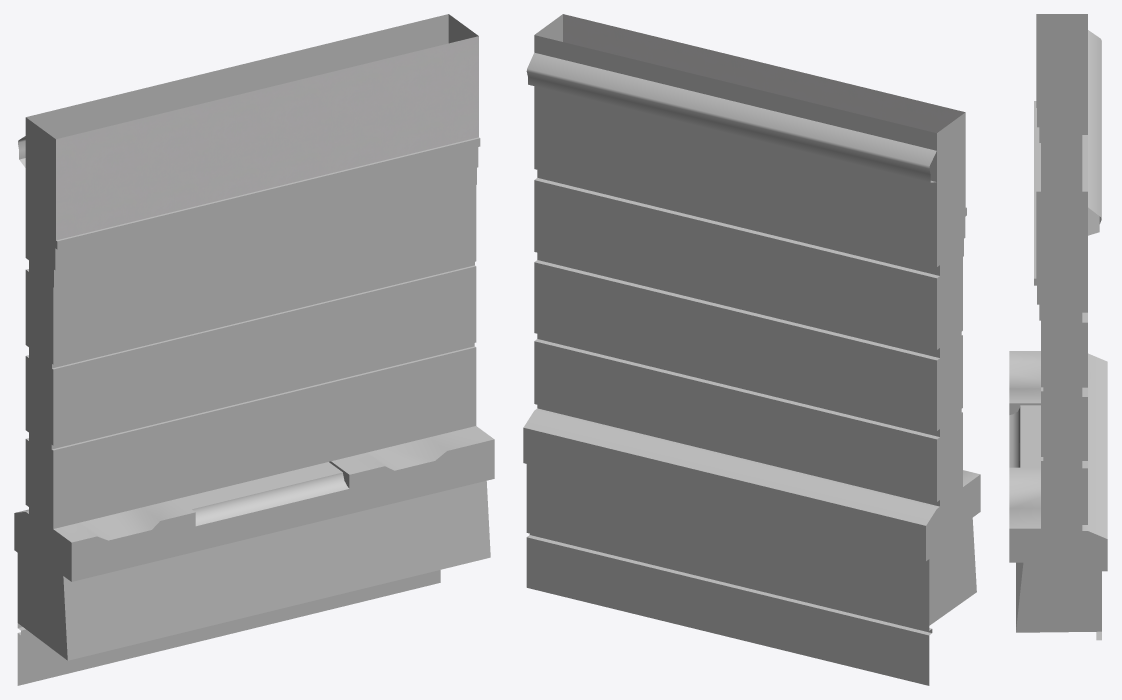
Rendered from SM_Wall_Stone_26.fbx.
3 renders of one model, left to right at view 1: azimuth 30°, elevation 25°; view 2: azimuth 150°, elevation 25°; view 3: azimuth 270°, elevation 25°, orthographic. The views are drawn at different scales.
Parts seen in each view (by area): view 1: SM_Wall_Stone_26; view 2: SM_Wall_Stone_26; view 3: SM_Wall_Stone_26.
Part boxes in pixels (x1,y1,x2,y2): SM_Wall_Stone_26: (14,14,494,685); SM_Wall_Stone_26: (523,14,980,685); SM_Wall_Stone_26: (1009,14,1107,640).
Bounding box in the file's own units: 370 × 86.64 × 480.
